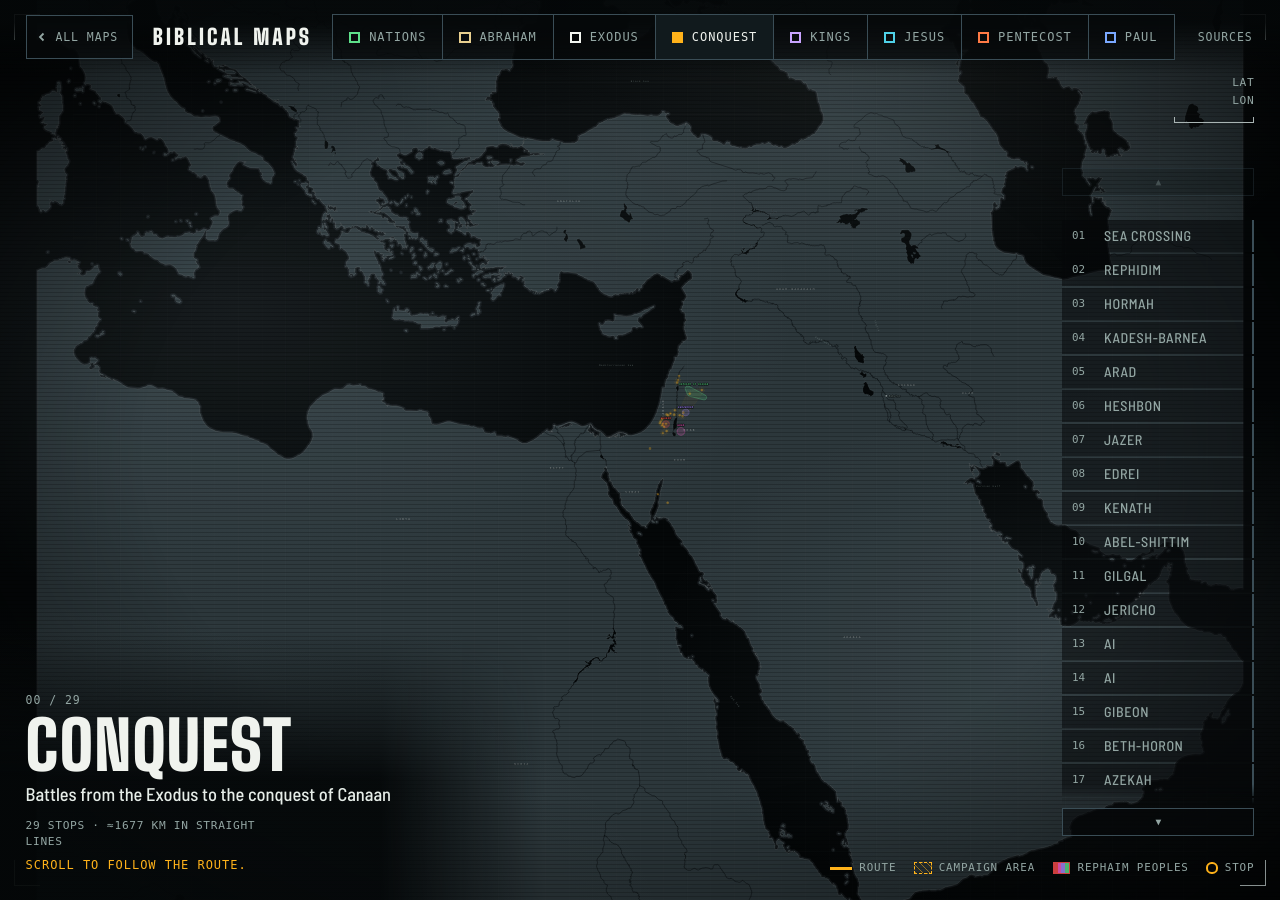
Test: App › shows Saul and David battles with cited army movements
Step 1. Click the button "Kings" → (821,37), box [774, 15, 868, 59]
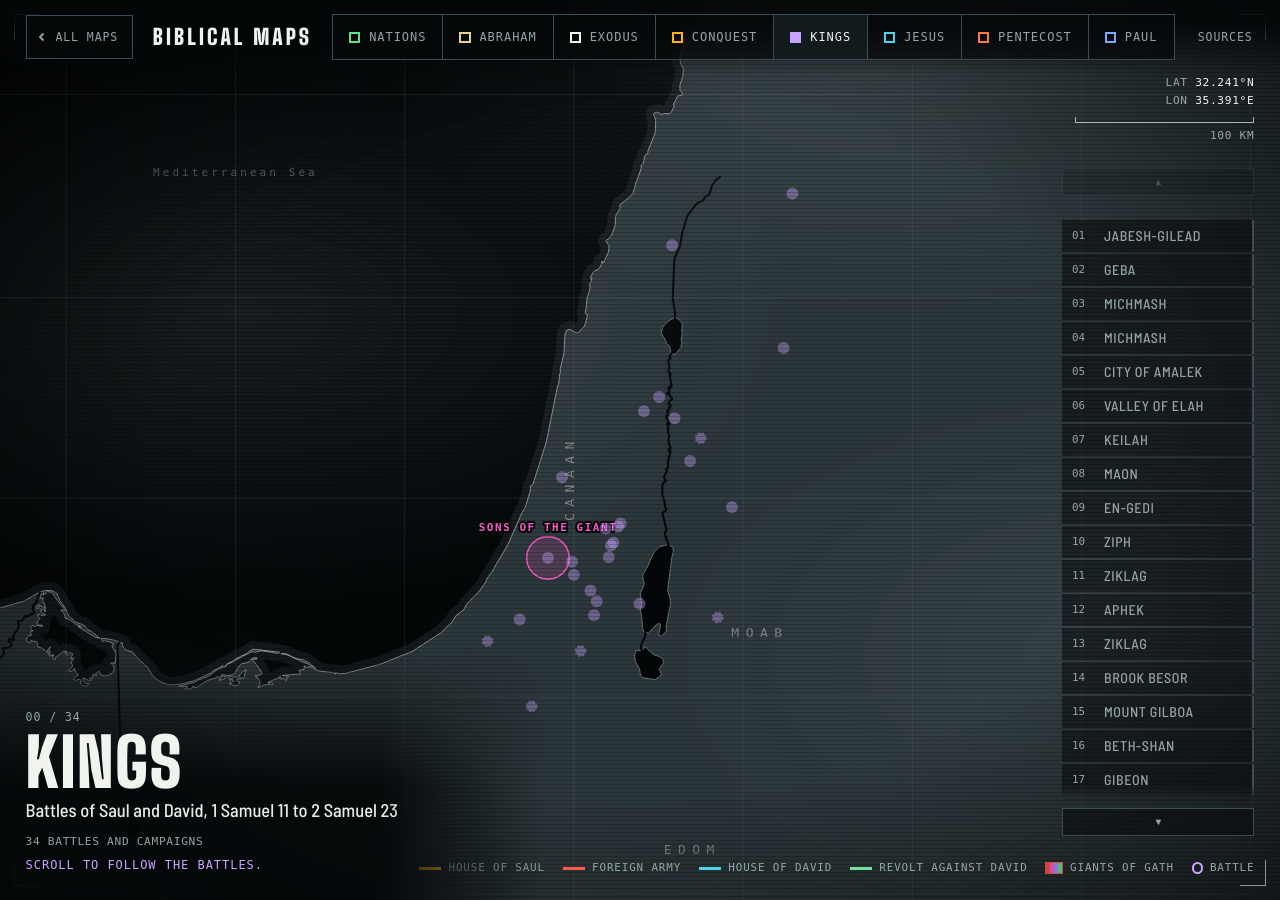
Check: the button "mount gilboa, 1 sam 31:1–6" is shown, box [624, 391, 750, 431]
Check: the heading "Kings" is shown, box [26, 722, 183, 802]
